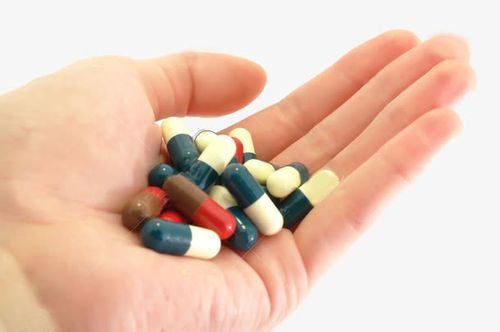no-phone: (3, 20, 480, 330)
